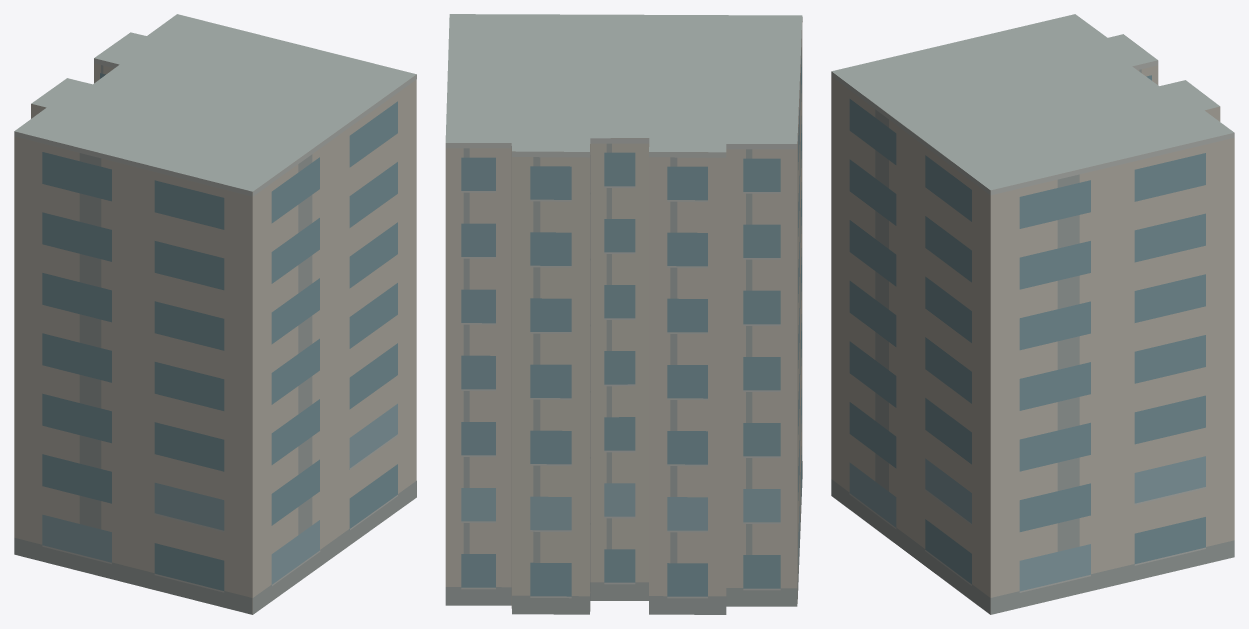
The model's file is survey-upis-32696145.glb.
The picture shows the model from 3 angles, left to right: view 1: azimuth 30°, elevation 25°; view 2: azimuth 150°, elevation 25°; view 3: azimuth 270°, elevation 25°; orthographic projection. The views are drawn at different scales.
Visible parts, largest first — view 1: survey-upis-32696145.tmp; view 2: survey-upis-32696145.tmp; view 3: survey-upis-32696145.tmp.
Boxes of the visible parts, box(x1,y1,x2,y2) form: survey-upis-32696145.tmp: box(14, 14, 416, 614); survey-upis-32696145.tmp: box(445, 14, 802, 614); survey-upis-32696145.tmp: box(831, 14, 1234, 614).
Size of the model in its own units: 18.19 by 20.4 by 17.57.
